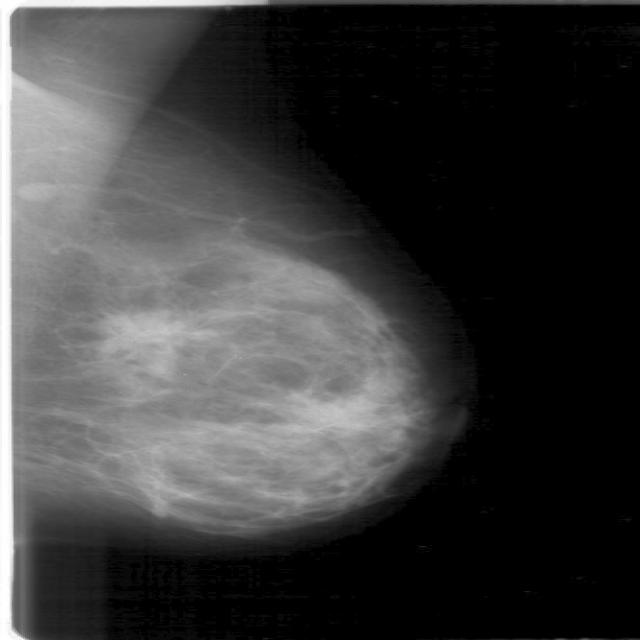tumour: (87, 310, 183, 367)
